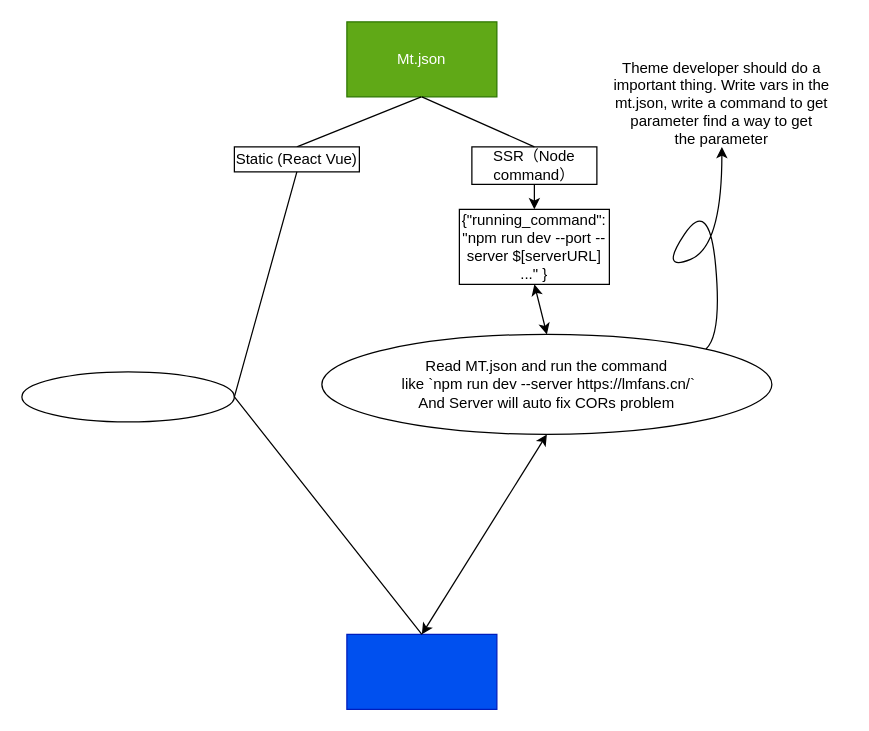
Some shapes in this 869 by 731 pixel diagram are drawn without their labels. The shapes that lost their labels are listed below. From the top down, each one's centre as x and y in pixels, then its label:
At [127,396]: "Normal Running".
At [421,671]: "MiRolls Server".
